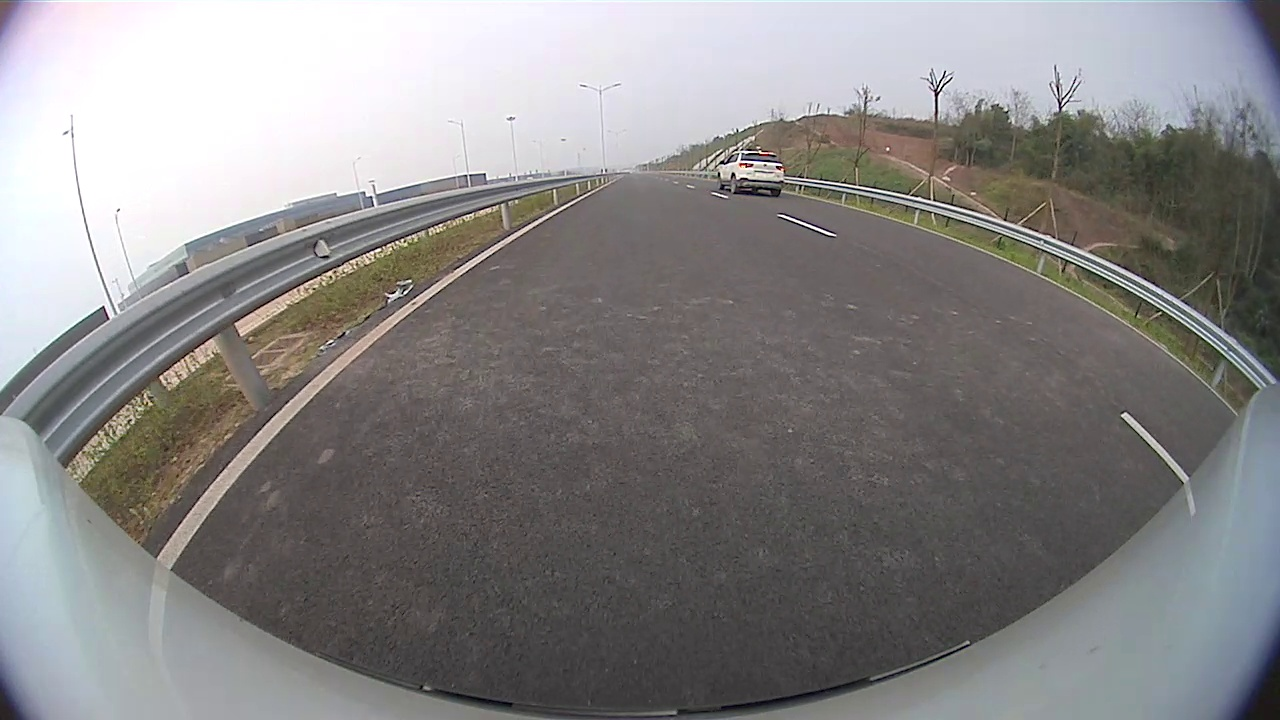car: (716, 151, 785, 197)
front: (715, 173, 723, 193)
rear: (729, 176, 739, 195)
